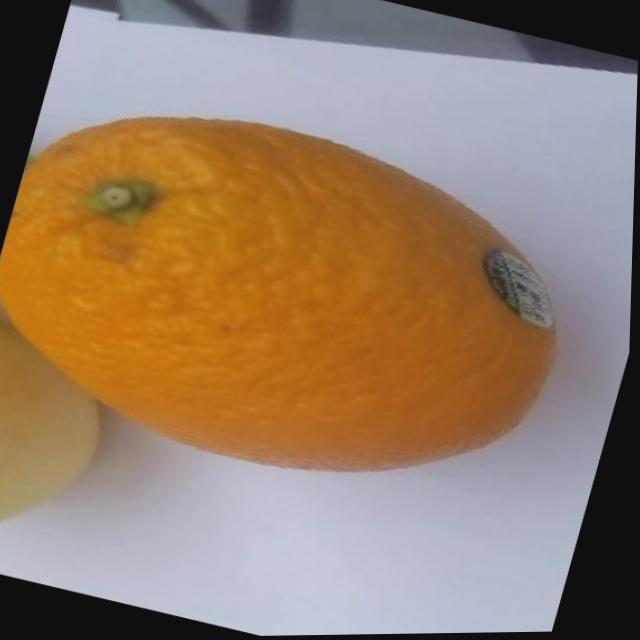Orange: (0, 66, 602, 534)
